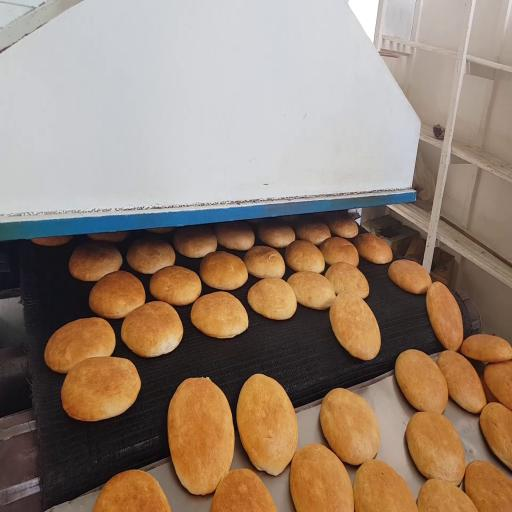bread: (168, 378, 234, 494), (237, 374, 298, 475), (61, 357, 141, 421), (320, 389, 379, 465), (290, 444, 354, 511), (406, 412, 465, 484), (45, 318, 115, 373), (121, 302, 183, 357), (330, 292, 380, 360), (395, 350, 448, 413), (354, 460, 417, 511), (93, 470, 170, 511), (437, 351, 486, 413), (211, 469, 276, 511), (89, 271, 145, 319), (191, 292, 248, 338), (427, 282, 463, 351), (465, 461, 511, 511), (69, 242, 122, 281), (480, 403, 511, 469), (150, 266, 201, 305), (248, 278, 296, 319), (418, 479, 477, 511), (200, 251, 247, 290), (287, 272, 335, 310), (127, 238, 175, 274), (325, 262, 369, 298), (388, 260, 431, 294), (461, 335, 511, 363), (174, 226, 217, 258), (484, 361, 512, 410), (285, 240, 325, 273), (244, 246, 285, 278), (214, 221, 255, 251), (354, 234, 392, 264), (320, 237, 358, 266), (258, 220, 295, 248), (295, 220, 330, 245), (326, 212, 358, 238), (479, 371, 498, 402), (32, 236, 72, 246), (88, 232, 128, 242), (146, 227, 175, 234), (247, 218, 264, 225)
